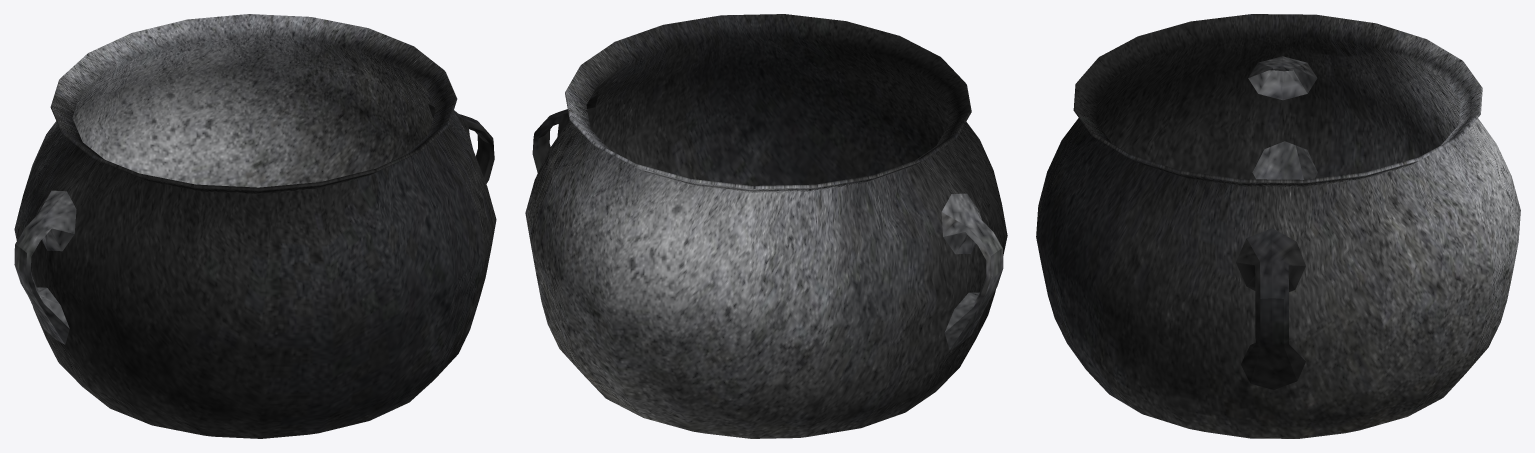
Rendered from Cauldron_3.fbx.
3 views of the same model, side by side, from view 1: azimuth 30°, elevation 25°; view 2: azimuth 150°, elevation 25°; view 3: azimuth 270°, elevation 25° (orthographic).
Visible parts, largest first — view 1: pasted__pasted__pasted__pSphere3.002; view 2: pasted__pasted__pasted__pSphere3.002; view 3: pasted__pasted__pasted__pSphere3.002.
Part boxes in pixels (<box>): pasted__pasted__pasted__pSphere3.002: <box>14,14,496,438</box>; pasted__pasted__pasted__pSphere3.002: <box>525,14,1007,438</box>; pasted__pasted__pasted__pSphere3.002: <box>1036,14,1520,438</box>.
Bounding box in the file's own units: 25.11 × 14.59 × 22.36.
